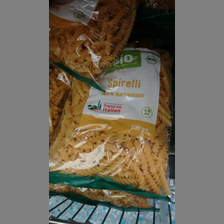pasta: (50, 47, 171, 196), (49, 1, 136, 85)
